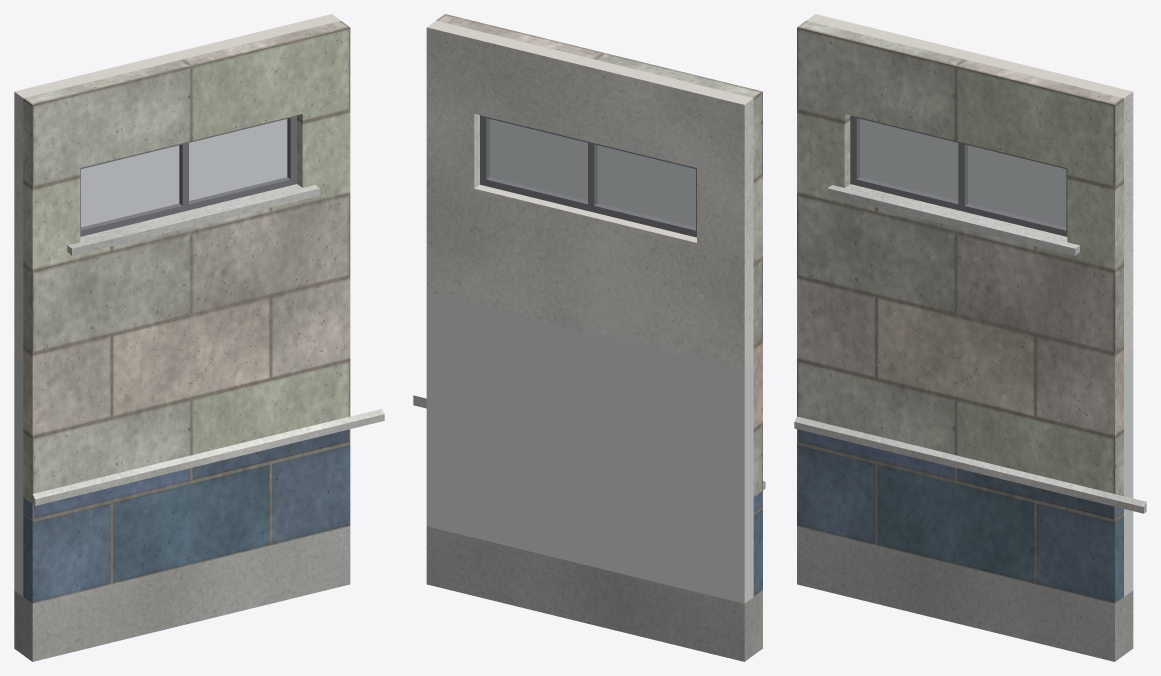
The model's file is r_win_eb.glb.
3 renders of one model, left to right at view 1: azimuth 30°, elevation 25°; view 2: azimuth 150°, elevation 25°; view 3: azimuth 330°, elevation 25°, orthographic.
Parts seen in each view (by area): view 1: r_win_eb_cmu, r_win_eb_cmu2, r_win_eb_concrete, r_win_eb_frost, r_win_eb_coping, r_win_eb_plaster, r_win_eb_frame, r_win_eb_tile; view 2: r_win_eb_tile, r_win_eb_plaster, r_win_eb_concrete, r_win_eb_frost, r_win_eb_cmu, r_win_eb_frame, r_win_eb_cmu2; view 3: r_win_eb_cmu, r_win_eb_cmu2, r_win_eb_concrete, r_win_eb_frost, r_win_eb_coping, r_win_eb_plaster, r_win_eb_frame, r_win_eb_tile.
Boxes of the visible parts, <box> form: r_win_eb_cmu: <box>23,21,350,503</box>; r_win_eb_cmu2: <box>23,429,350,603</box>; r_win_eb_concrete: <box>14,526,350,661</box>; r_win_eb_frost: <box>81,119,287,227</box>; r_win_eb_coping: <box>32,184,384,505</box>; r_win_eb_plaster: <box>14,14,340,363</box>; r_win_eb_frame: <box>80,115,296,236</box>; r_win_eb_tile: <box>14,358,23,596</box>; r_win_eb_tile: <box>426,293,753,603</box>; r_win_eb_plaster: <box>426,21,753,370</box>; r_win_eb_concrete: <box>426,526,762,661</box>; r_win_eb_frost: <box>489,119,695,227</box>; r_win_eb_cmu: <box>436,14,762,496</box>; r_win_eb_frame: <box>480,115,696,237</box>; r_win_eb_cmu2: <box>753,491,762,596</box>; r_win_eb_cmu: <box>797,20,1123,495</box>; r_win_eb_cmu2: <box>797,429,1123,603</box>; r_win_eb_concrete: <box>797,526,1133,661</box>; r_win_eb_frost: <box>860,119,1066,227</box>; r_win_eb_coping: <box>794,184,1146,513</box>; r_win_eb_plaster: <box>806,14,1133,363</box>; r_win_eb_frame: <box>850,115,1067,236</box>; r_win_eb_tile: <box>1124,358,1133,596</box>.
Bounding box in the file's own units: 2.2 × 3.35 × 0.25.
8 materials, 5 textured.
